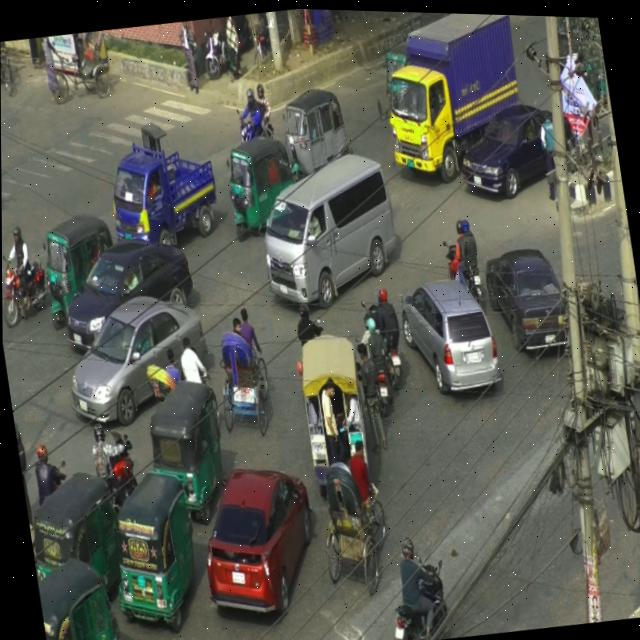cng: (96, 463, 208, 618), (148, 357, 244, 524), (23, 448, 121, 600), (219, 120, 309, 250), (31, 199, 116, 332), (33, 548, 137, 640), (274, 60, 352, 180)
rikshaw: (310, 436, 388, 584), (207, 285, 273, 448), (26, 27, 118, 101)
